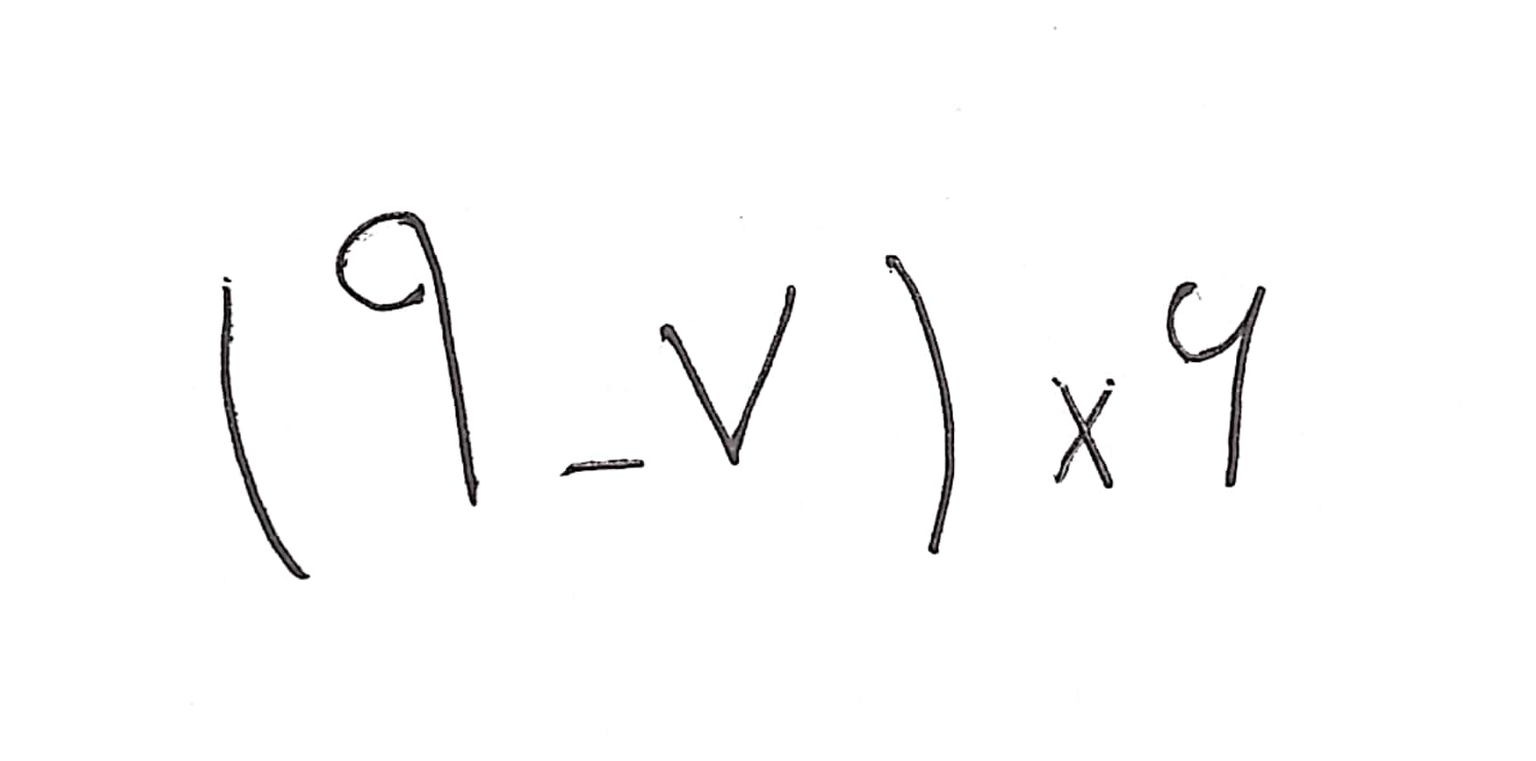character: (335, 213, 478, 505), (222, 276, 309, 578), (661, 284, 800, 466), (1167, 282, 1265, 488), (887, 255, 954, 556), (1054, 377, 1114, 491), (559, 460, 645, 476)
